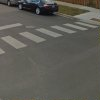crosswalk: (0, 21, 96, 54)
